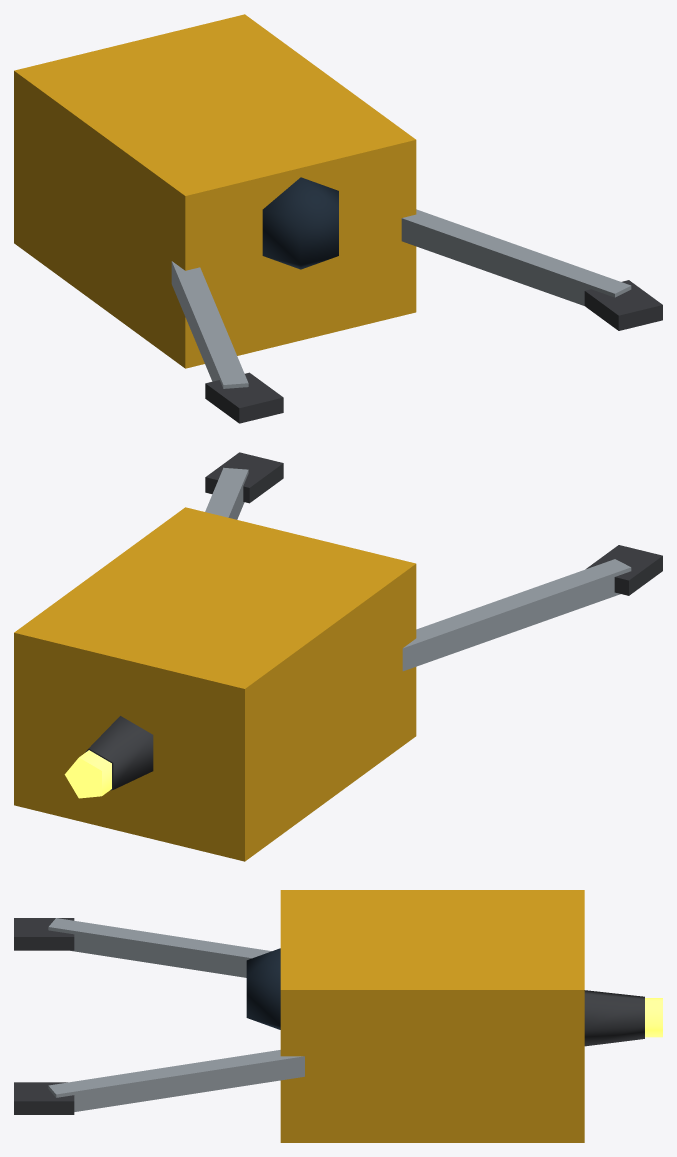
File: space_ship_builder_drone_mk2_lod1.glb
3 views of the same model, one above another, from view 1: azimuth 30°, elevation 25°; view 2: azimuth 150°, elevation 25°; view 3: azimuth 270°, elevation 25° (orthographic). The views are drawn at different scales.
Visible parts, largest first — view 1: body, arm_1, arm_0; view 2: body, arm_0, engine_0, arm_1; view 3: body, arm_1, arm_0, engine_0.
Boxes of the visible parts, box(x1,y1,x2,y2) form: body: box(14, 14, 416, 368); arm_1: box(401, 209, 662, 330); arm_0: box(171, 261, 283, 423); body: box(14, 507, 416, 861); arm_0: box(402, 545, 662, 671); engine_0: box(64, 716, 153, 798); arm_1: box(205, 452, 283, 519); body: box(246, 890, 584, 1142); arm_1: box(14, 1050, 304, 1114); arm_0: box(14, 918, 271, 977); engine_0: box(584, 990, 662, 1046).
Bounding box in the file's own units: 2.88 × 1.12 × 4.3.
